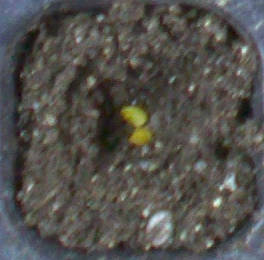pepper seed: (50, 54, 203, 200), (44, 41, 193, 169)
